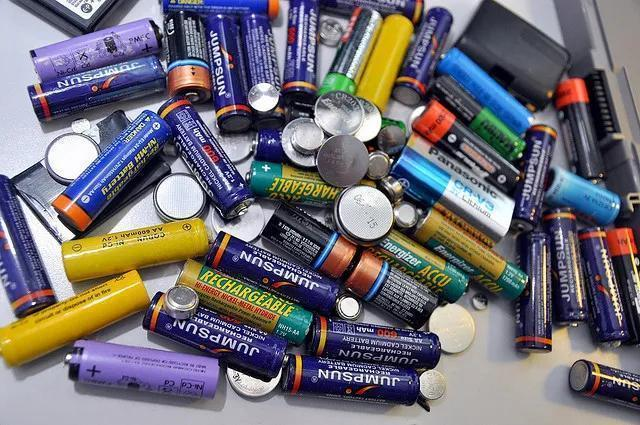AA: (0, 266, 153, 373), (49, 107, 176, 233), (153, 96, 260, 224), (140, 289, 290, 380), (172, 256, 316, 348), (204, 229, 345, 320), (411, 206, 533, 307), (409, 96, 525, 199), (59, 215, 214, 285), (25, 53, 169, 127), (63, 337, 224, 403), (29, 13, 166, 87), (0, 171, 59, 321), (281, 351, 424, 408), (308, 314, 443, 370), (392, 4, 458, 109), (204, 12, 259, 135), (514, 222, 555, 356), (281, 0, 321, 103)
COIN: (333, 182, 394, 249), (43, 130, 104, 188), (315, 132, 373, 188), (150, 171, 207, 224), (426, 303, 478, 356), (313, 89, 366, 138)
